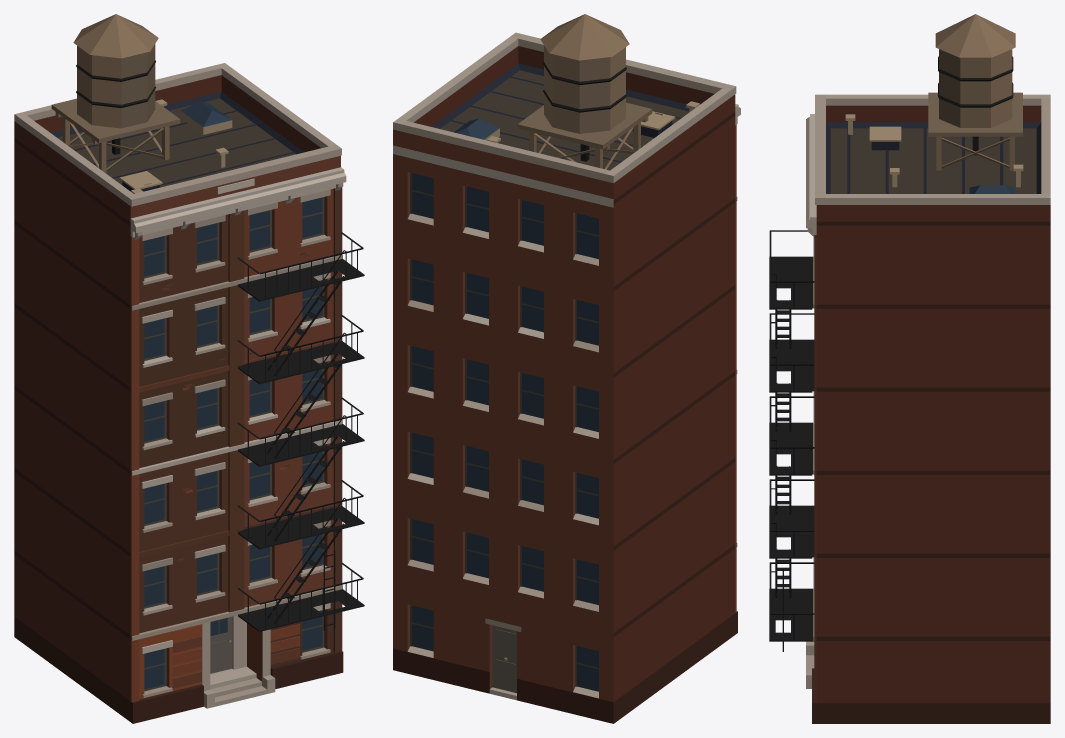
File: tenement.glb
The picture shows the model from 3 angles, left to right: view 1: azimuth 30°, elevation 25°; view 2: azimuth 150°, elevation 25°; view 3: azimuth 270°, elevation 25°; orthographic projection. The views are drawn at different scales.
Visible parts, largest first — view 1: tenement-body; view 2: tenement-body; view 3: tenement-body.
Part boxes in pixels (<box>): tenement-body: <box>14,14,364,723</box>; tenement-body: <box>393,14,740,723</box>; tenement-body: <box>769,14,1050,723</box>.
Size of the model in its own units: 8 by 23.06 by 9.2.
